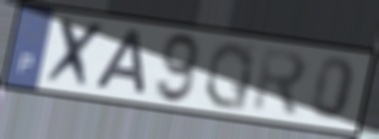0: (309, 54, 358, 125)
9: (155, 30, 202, 105)
A: (90, 28, 149, 98)
Q: (201, 40, 257, 114)
R: (250, 44, 311, 121)
X: (40, 15, 108, 93)
